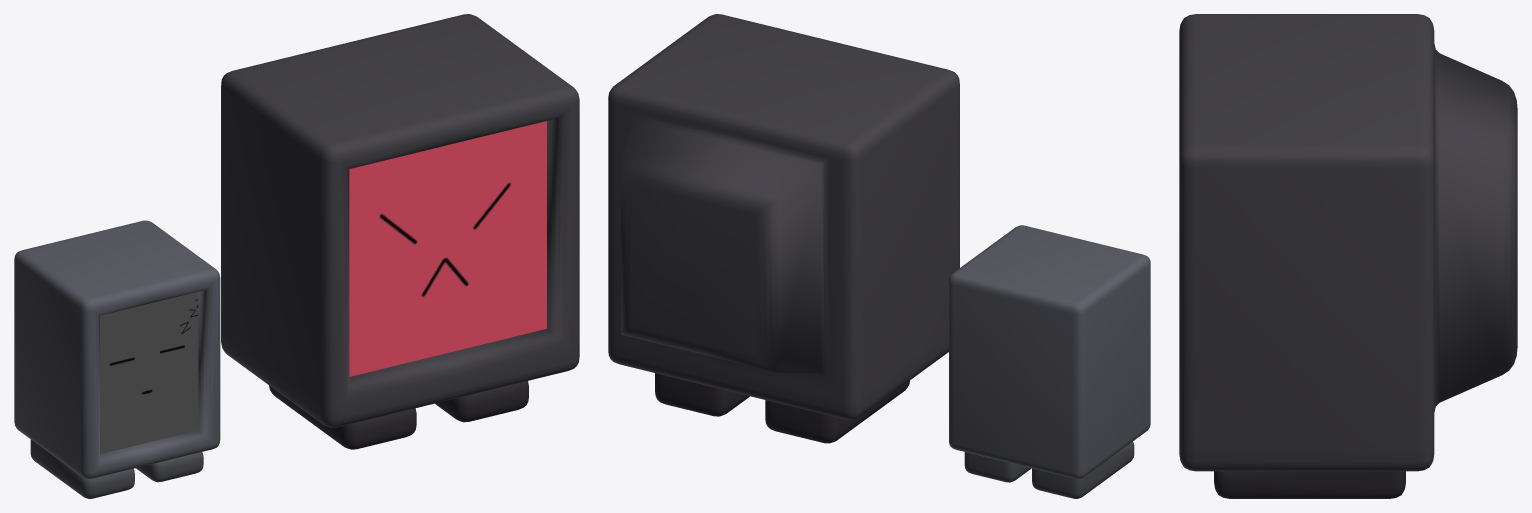
File: TVMonster.fbx
3 renders of one model, left to right at view 1: azimuth 30°, elevation 25°; view 2: azimuth 150°, elevation 25°; view 3: azimuth 270°, elevation 25°, orthographic. The views are drawn at different scales.
Visible parts, largest first — view 1: TVMonster_Big, TVMonster_Big_Face, TVMonster_Small, TVMonster_Small_face, TVMonster_Big_Foot, TVMonster_Small_Foot; view 2: TVMonster_Big, TVMonster_Small, TVMonster_Big_Foot, TVMonster_Small_Foot; view 3: TVMonster_Big, TVMonster_Big_Foot.
Boxes of the visible parts, x1,y1,x2,y2 form: TVMonster_Big: (221,14,579,427); TVMonster_Big_Face: (349,121,546,376); TVMonster_Small: (14,220,220,478); TVMonster_Small_face: (100,292,198,454); TVMonster_Big_Foot: (269,381,528,449); TVMonster_Small_Foot: (30,439,203,498); TVMonster_Big: (608,14,959,419); TVMonster_Small: (949,225,1150,478); TVMonster_Big_Foot: (655,373,909,443); TVMonster_Small_Foot: (964,441,1134,498); TVMonster_Big: (1179,14,1517,471); TVMonster_Big_Foot: (1214,471,1405,498).
Bounding box in the file's own units: 276 × 149 × 181.
4 materials, 4 textured.
